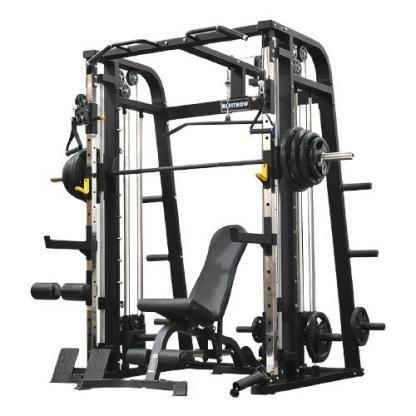smith machine: (51, 20, 386, 396)
